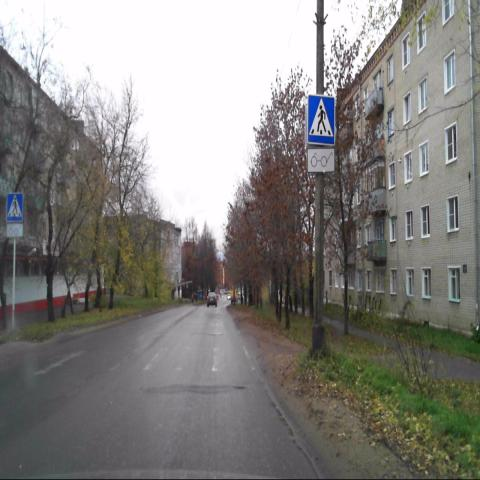8_15: (308, 149, 334, 172), (6, 223, 23, 238)
